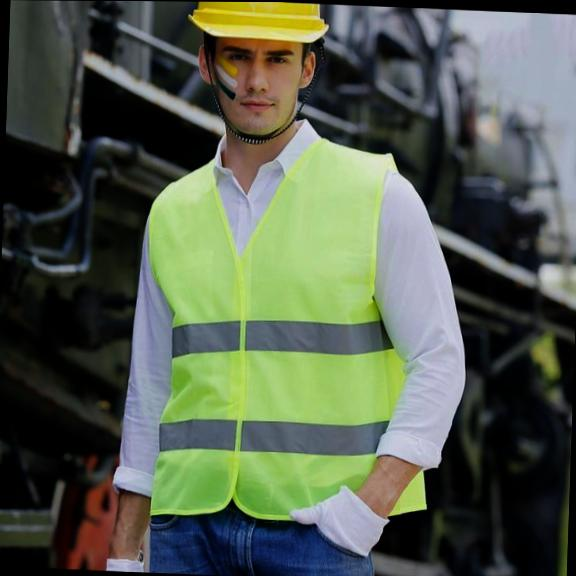safety_vest: (126, 131, 446, 534)
